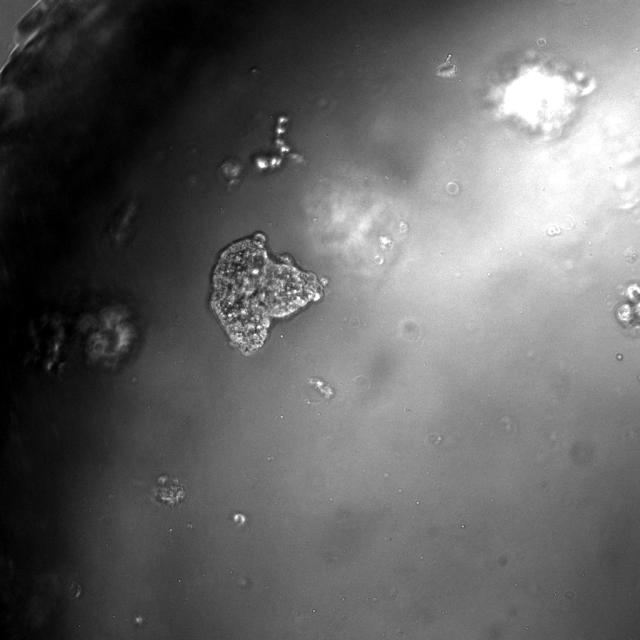organoid: (209, 232, 323, 355), (485, 51, 595, 138), (25, 303, 140, 372), (254, 114, 294, 172), (614, 284, 639, 332), (154, 474, 186, 507)
